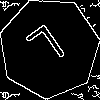L: (24, 23, 73, 77)
